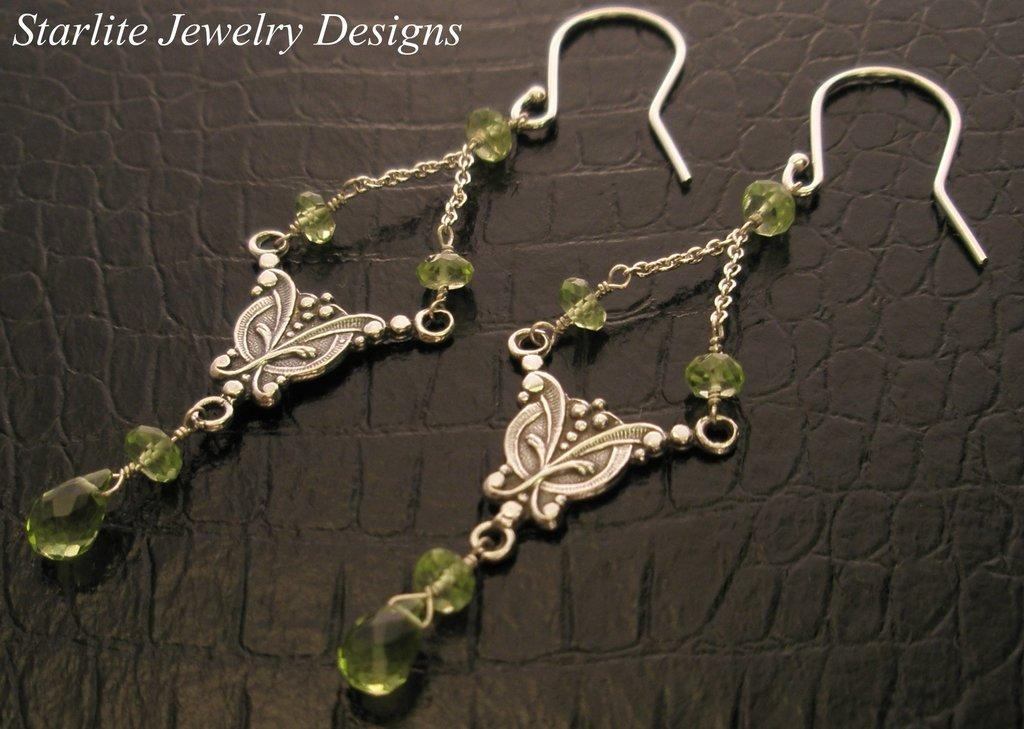earrings: (331, 66, 994, 699), (25, 0, 691, 564)
